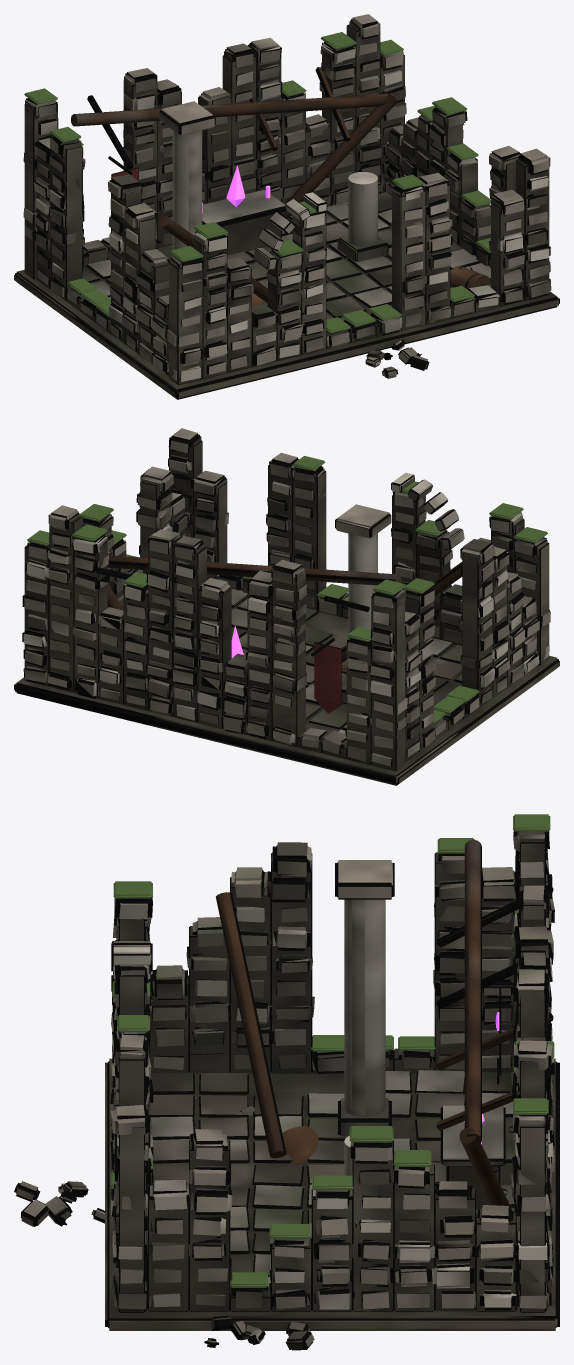
File: ruina_salao_vazado.glb
3 renders of one model, top to bottom at view 1: azimuth 30°, elevation 25°; view 2: azimuth 150°, elevation 25°; view 3: azimuth 270°, elevation 25°, orthographic. The views are drawn at different scales.
Parts seen in each view (by area): view 1: ruina_salao_vazado; view 2: ruina_salao_vazado; view 3: ruina_salao_vazado.
Part boxes in pixels (bbox=[...]): ruina_salao_vazado: bbox=[14, 14, 559, 399]; ruina_salao_vazado: bbox=[14, 428, 559, 785]; ruina_salao_vazado: bbox=[14, 814, 559, 1350].
Size of the model in its own units: 12.26 by 5.61 by 10.08.
Materials: 3 (1 with a texture image).
